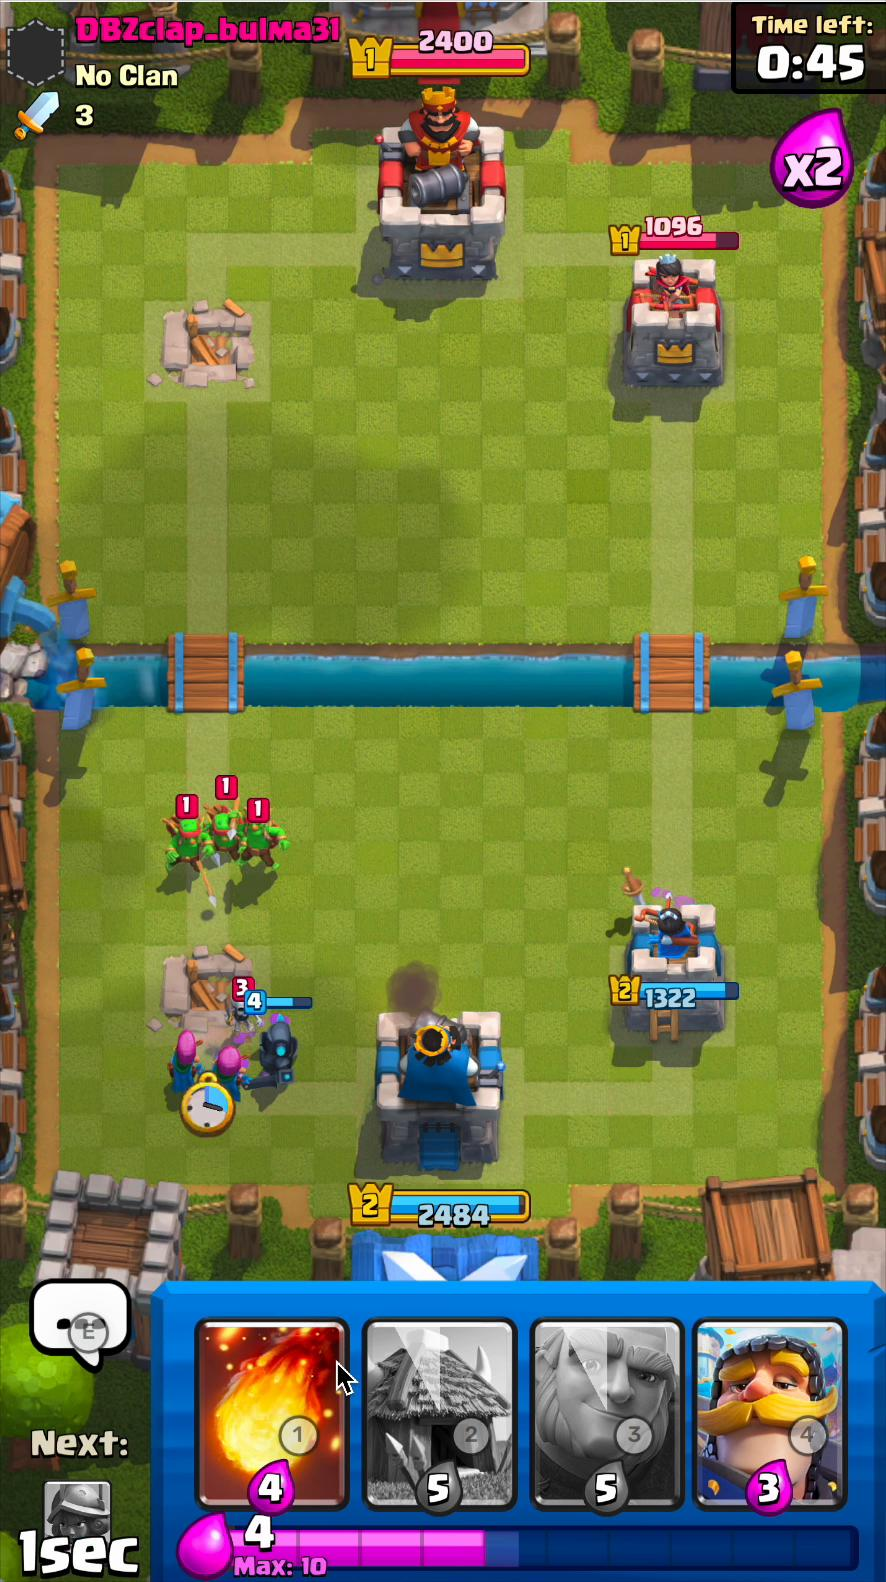archere: (169, 1025, 209, 1103), (209, 1044, 249, 1115)
gobelin_lances: (161, 817, 220, 882), (233, 812, 288, 876), (198, 795, 254, 857)
mini_PEKKA: (247, 1018, 301, 1088)
squelette: (213, 990, 255, 1033)
